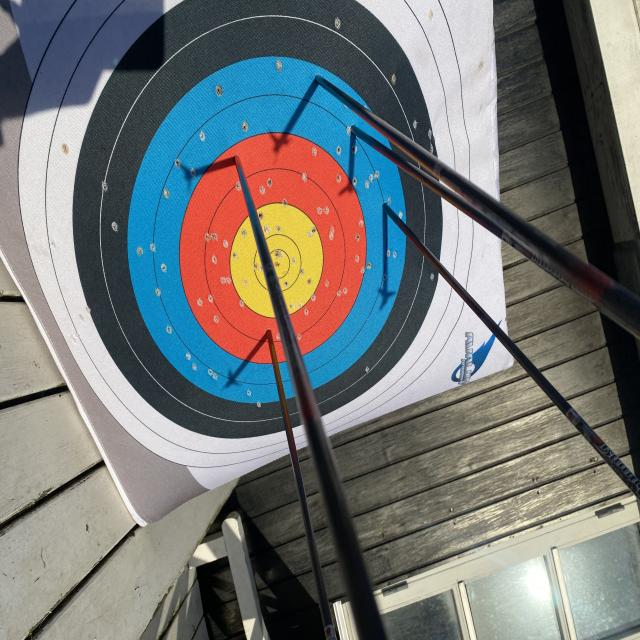Arrow_Blue: (336, 112, 370, 147), (374, 185, 399, 228), (304, 61, 334, 95)
Arrow_Red: (222, 136, 253, 188), (262, 316, 284, 361)
